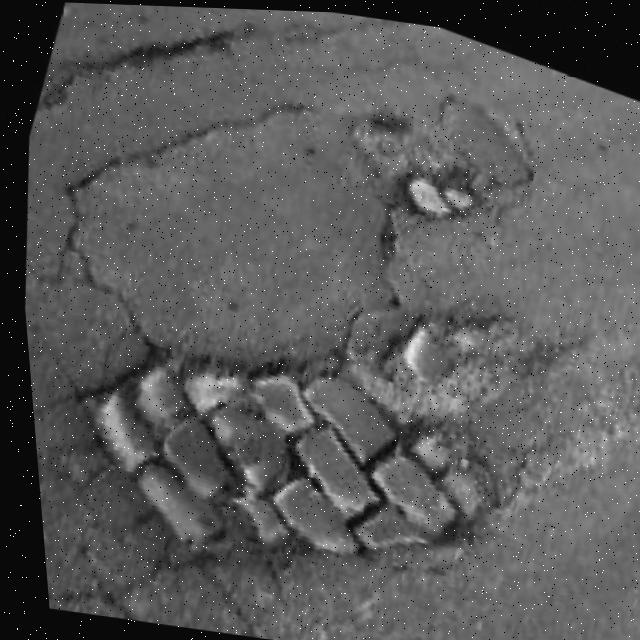Pothole: (26, 215, 635, 640), (330, 59, 557, 268), (112, 3, 262, 108)
